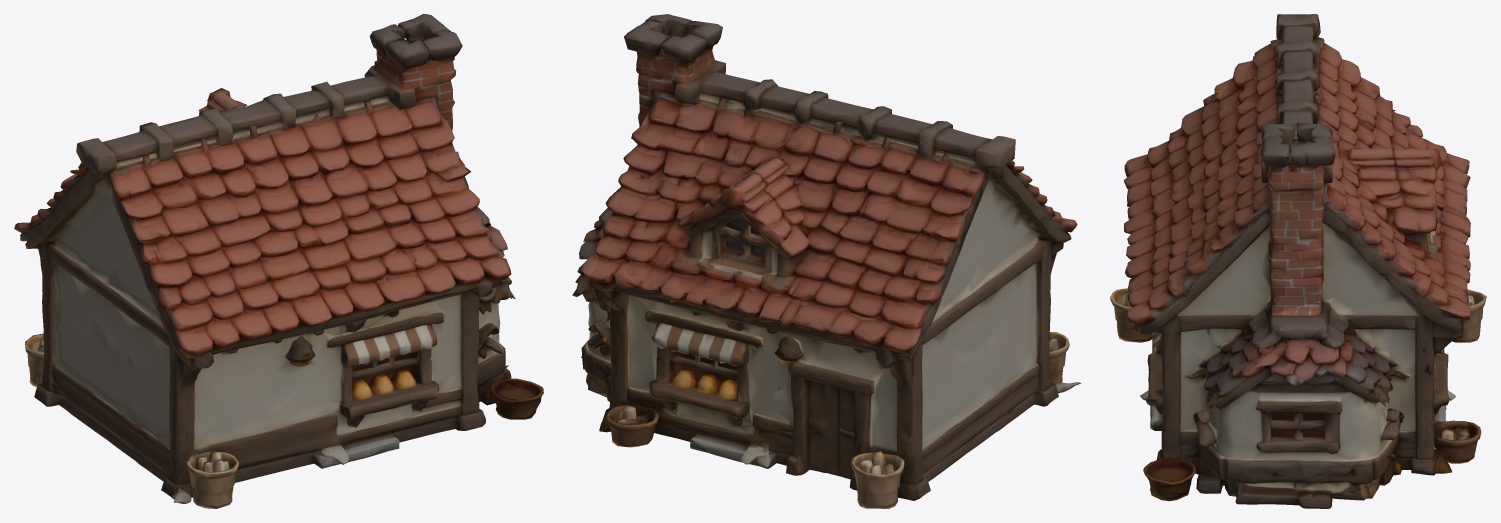
The model's file is townBakery.glb.
3 views of the same model, side by side, from view 1: azimuth 30°, elevation 25°; view 2: azimuth 150°, elevation 25°; view 3: azimuth 270°, elevation 25° (orthographic).
Parts seen in each view (by area): view 1: pb_node; view 2: pb_node; view 3: pb_node.
Part boxes in pixels (<box>): pb_node: <box>14,14,543,508</box>; pb_node: <box>572,14,1081,508</box>; pb_node: <box>1110,14,1486,508</box>.
Size of the model in its own units: 1 by 0.8229 by 0.8224.
Materials: 1 (1 with a texture image).
